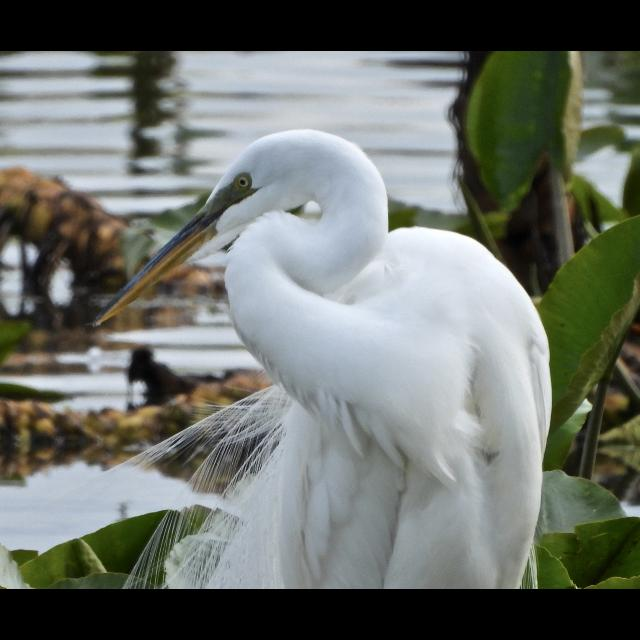egret: (90, 128, 536, 590)
